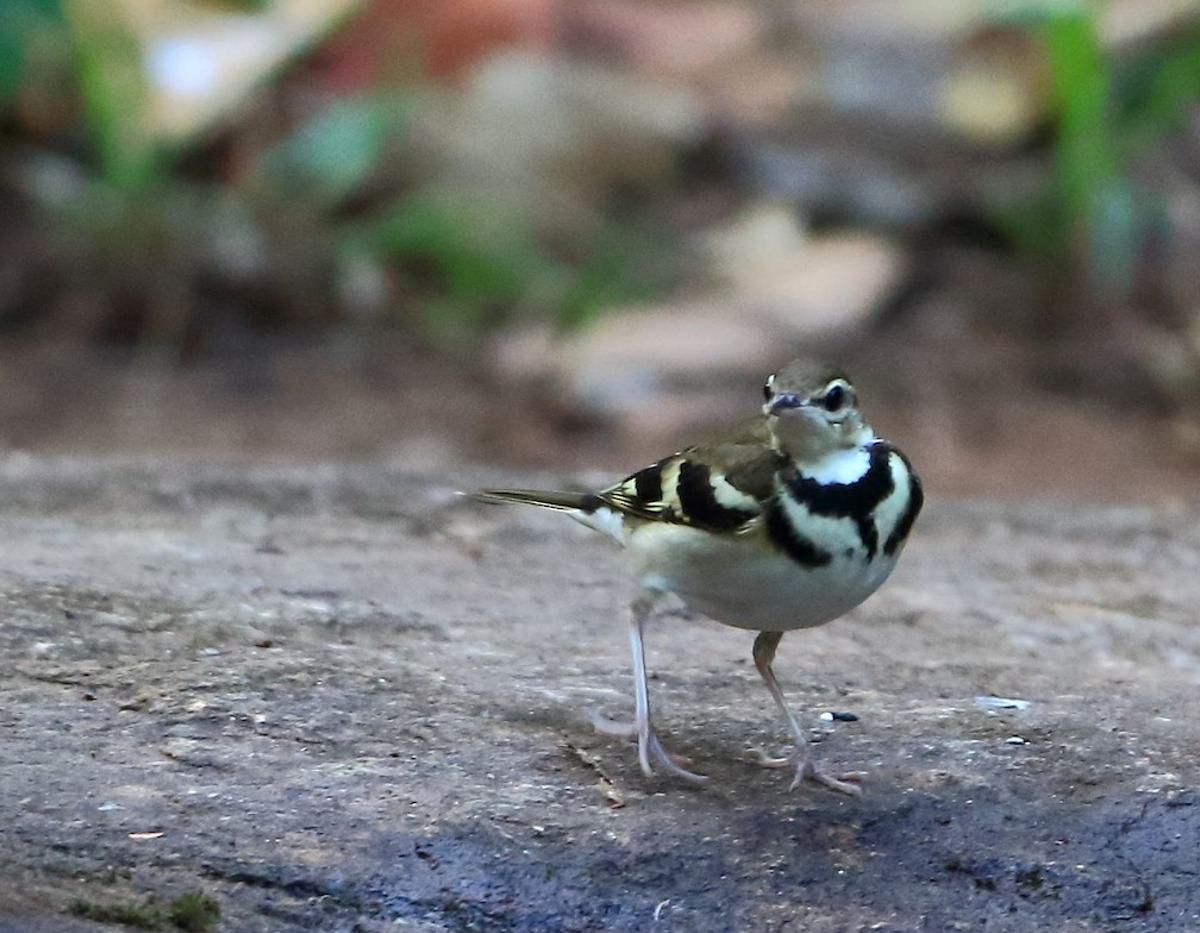wagtail: (455, 370, 927, 693)
